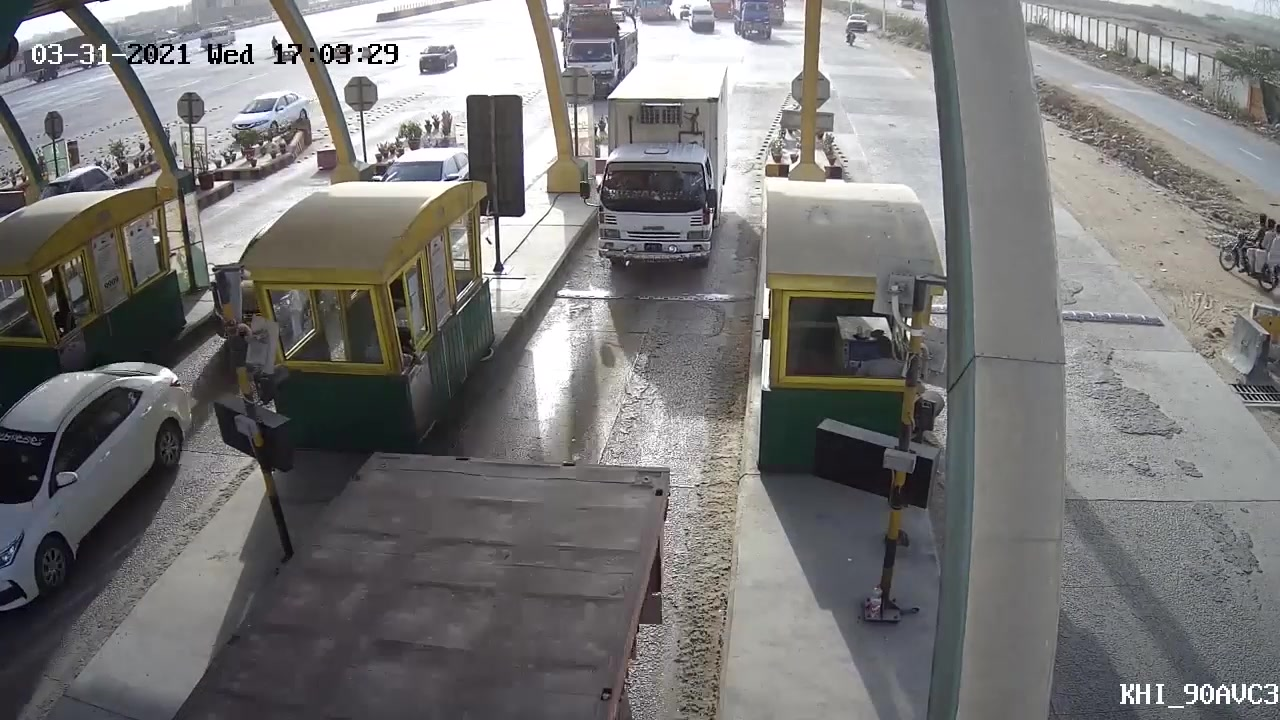F5: (592, 70, 737, 270)
